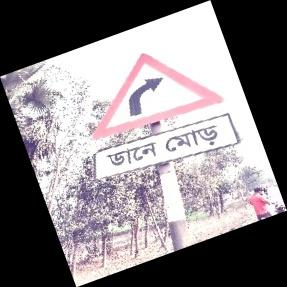Right-turn: (90, 52, 239, 180)
